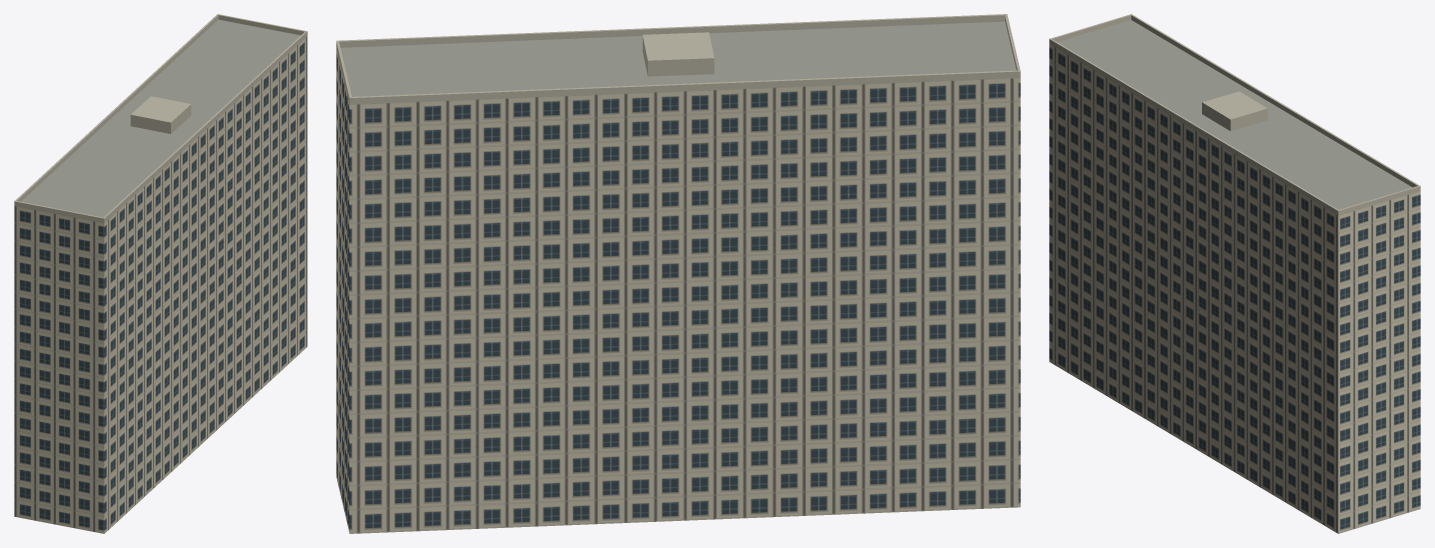
3 views of the same model, side by side, from view 1: azimuth 30°, elevation 25°; view 2: azimuth 150°, elevation 25°; view 3: azimuth 270°, elevation 25° (orthographic). The views are drawn at different scales.
Visible parts, largest first — view 1: B04_tower, B04_tower_parapet, B04_tower_plant; view 2: B04_tower, B04_tower_parapet, B04_tower_plant; view 3: B04_tower, B04_tower_parapet, B04_tower_plant.
Boxes of the visible parts, <box> form: B04_tower: <box>14,19,307,533</box>; B04_tower_parapet: <box>14,14,307,222</box>; B04_tower_plant: <box>130,96,191,133</box>; B04_tower: <box>336,21,1020,533</box>; B04_tower_parapet: <box>336,14,1020,104</box>; B04_tower_plant: <box>642,32,714,76</box>; B04_tower: <box>1049,20,1420,533</box>; B04_tower_parapet: <box>1049,14,1420,215</box>; B04_tower_plant: <box>1202,91,1267,131</box>.
Bounding box in the file's own units: 71.72 × 56 × 57.13.
Materials: 3 (1 with a texture image).
